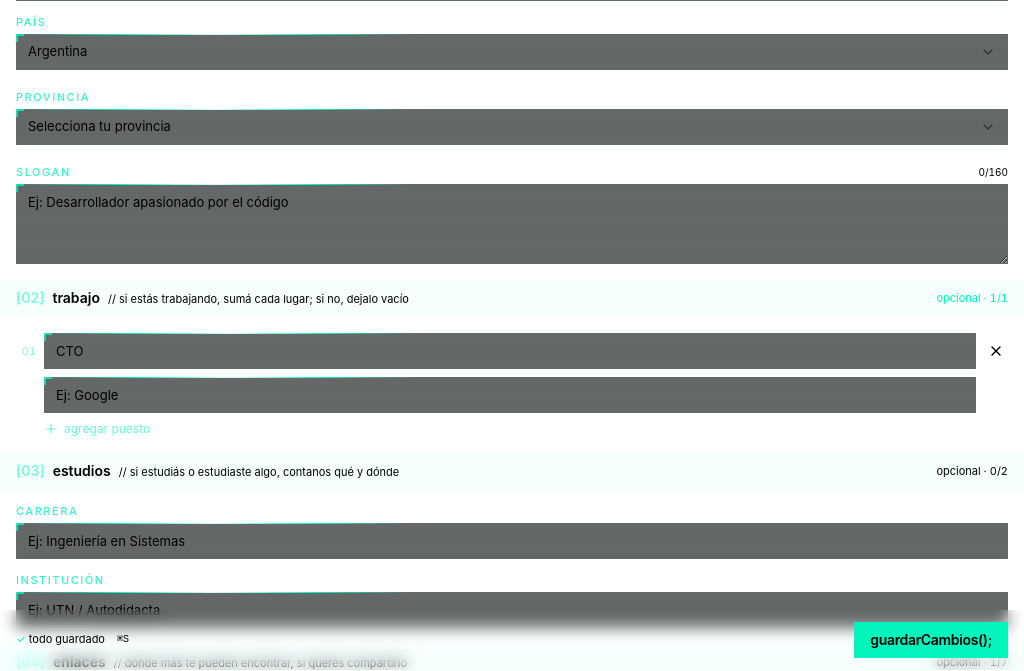
Scenario: ProfileForm › prefers the saved positions and shows the empty work state without any
(page scrolled)
Expected: the field named "Cargo del puesto 1" holds "CTO", [44,332,976,368]
Click the button named "Quitar puesto 1": (996, 350) [984,338,1008,362]
(page scrolled)
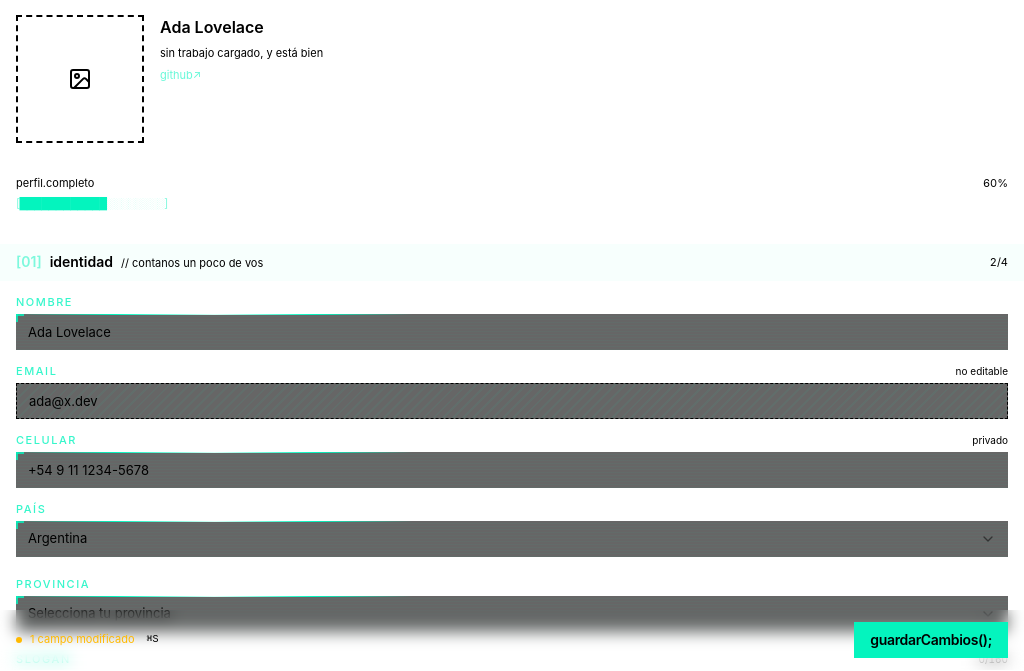
Now the text "sin trabajo cargado, y está bien" is shown, box [160,44,323,61]
